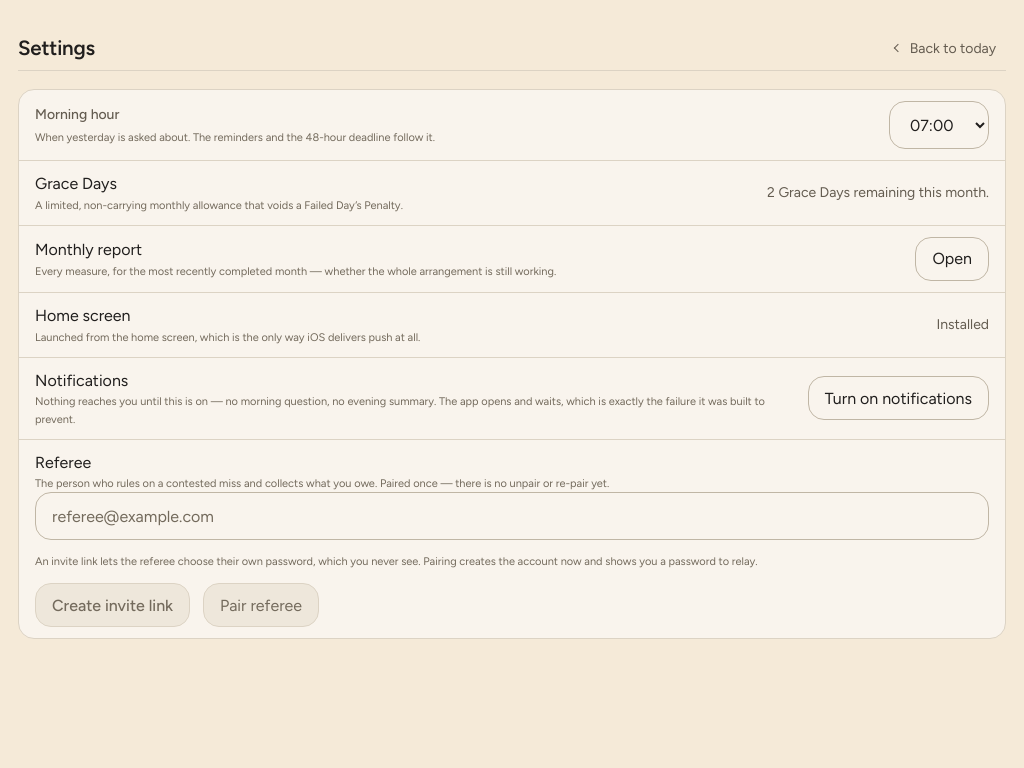
Test: the settings surface › fills the referee row: pairs from an email, shows the one-time password once
The width and height of the screenshot is (1024, 768).
Expected: the dropdown labelled "Morning hour" is shown, [889,101,989,149]
Expected: the button "Pair referee" is disabled, [203,584,319,628]
Step 1. Type "ref@example.com" into the field with placeholder "referee@example.com" → point(512, 516), box [35,492,989,540]
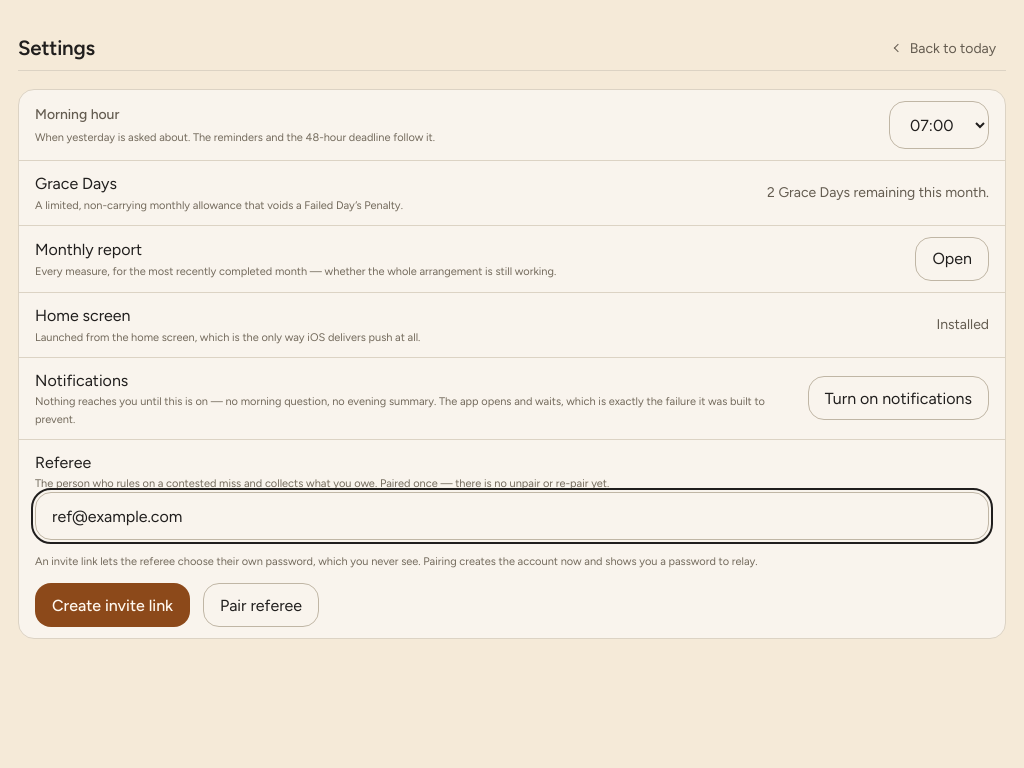
Now the button "Pair referee" is enabled
Step 2. Click the button "Pair referee" → point(261, 606), box [203,584,319,628]
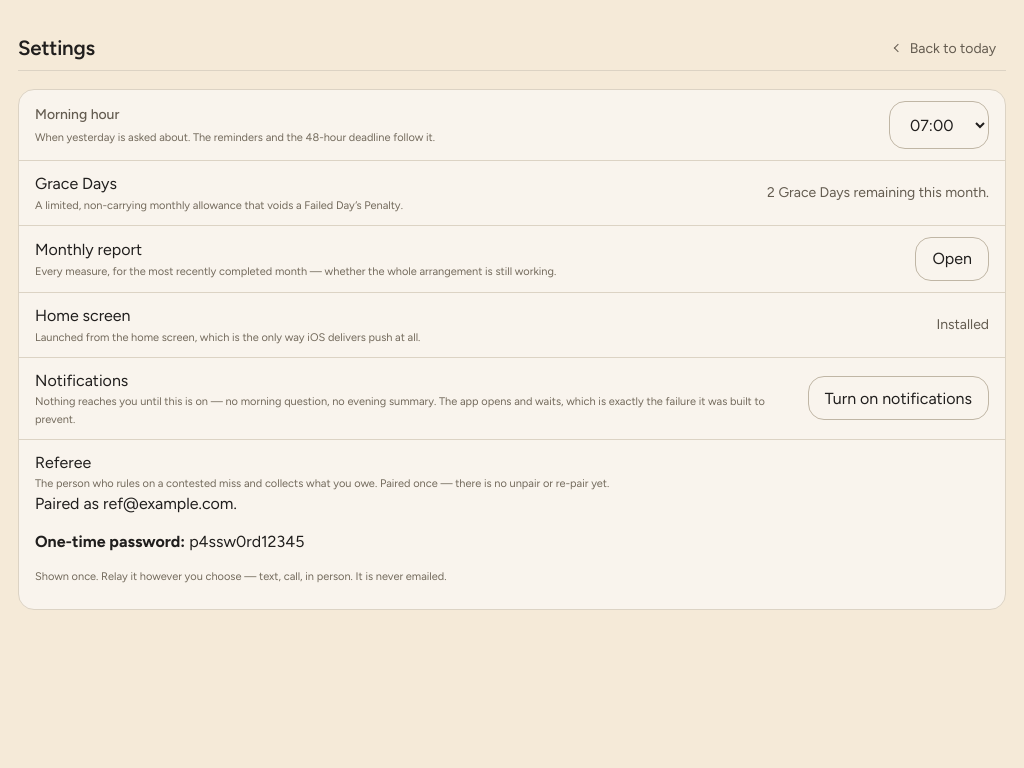
Now the text "Paired as ref@example.com." is shown, box [35,494,237,513]
Now the text "p4ssw0rd12345" is shown, box [189,532,304,551]
Now the text "never emailed" is shown, box [35,570,446,583]
